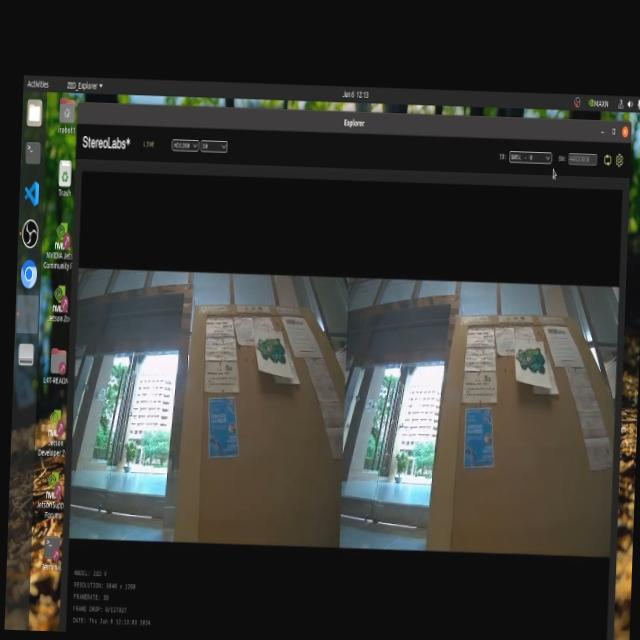green: (509, 344, 550, 374), (262, 333, 292, 366)
